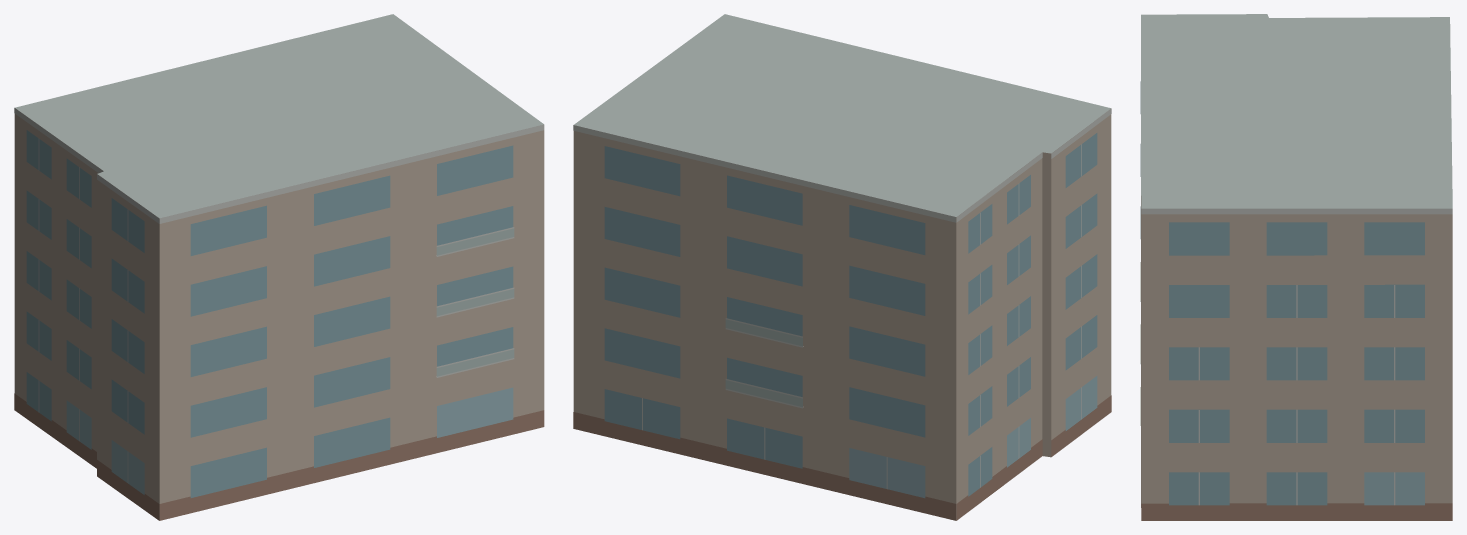
The model's file is survey-upis-32778828.glb.
3 views of the same model, side by side, from view 1: azimuth 30°, elevation 25°; view 2: azimuth 150°, elevation 25°; view 3: azimuth 270°, elevation 25° (orthographic). The views are drawn at different scales.
Parts seen in each view (by area): view 1: survey-upis-32778828.tmp; view 2: survey-upis-32778828.tmp; view 3: survey-upis-32778828.tmp.
Boxes of the visible parts, <box> form: survey-upis-32778828.tmp: <box>14,14,544,520</box>; survey-upis-32778828.tmp: <box>573,14,1111,520</box>; survey-upis-32778828.tmp: <box>1140,14,1452,520</box>.
Bounding box in the file's own units: 17.38 × 13 × 11.8.
